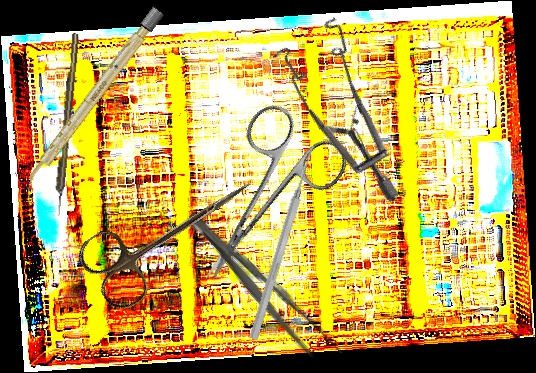Dressing Forceps: (178, 203, 347, 372)
Hook Surgical: (52, 33, 81, 216)
Iris Scissors: (163, 96, 355, 306), (72, 147, 270, 317)
Pusher: (247, 144, 319, 341)
Scalpel Handle: (21, 5, 165, 191)
Speculum: (242, 1, 461, 204)
